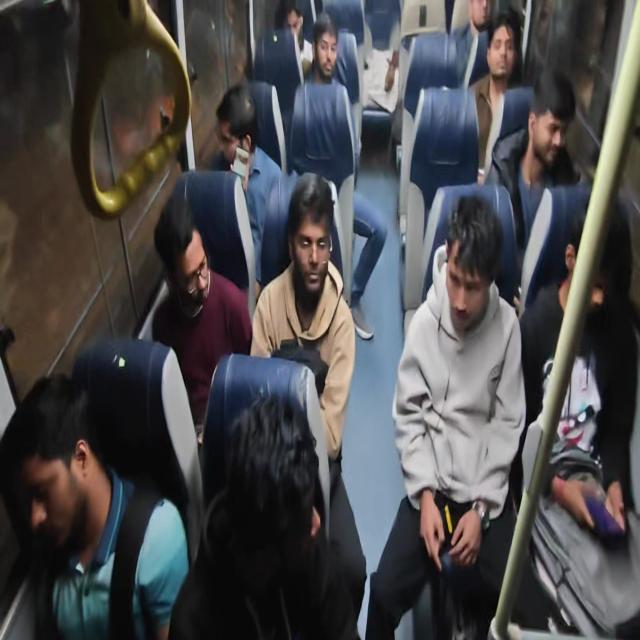person: (0, 378, 119, 619), (228, 402, 348, 625), (429, 214, 521, 403), (540, 214, 620, 341), (277, 192, 353, 325), (174, 171, 223, 363), (192, 92, 250, 180), (534, 59, 570, 160), (486, 9, 514, 95), (277, 1, 312, 67), (315, 18, 348, 76), (466, 0, 501, 52)
